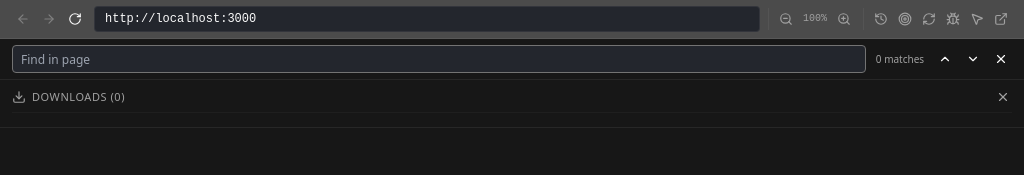
BrowserPane find failure surfacing › shows the structured IPC code when find rejects, not a generic fallback
Type "example" into the field labelled "Find in page".
click(439, 59); type("example")  # box left=12, top=45, right=866, bottom=73
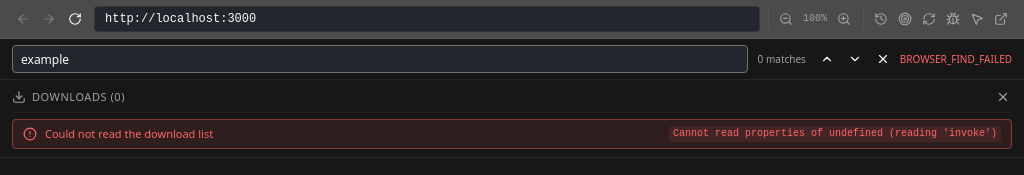
Result: the text "BROWSER_FIND_FAILED" is shown at left=900, top=52, right=1012, bottom=66
